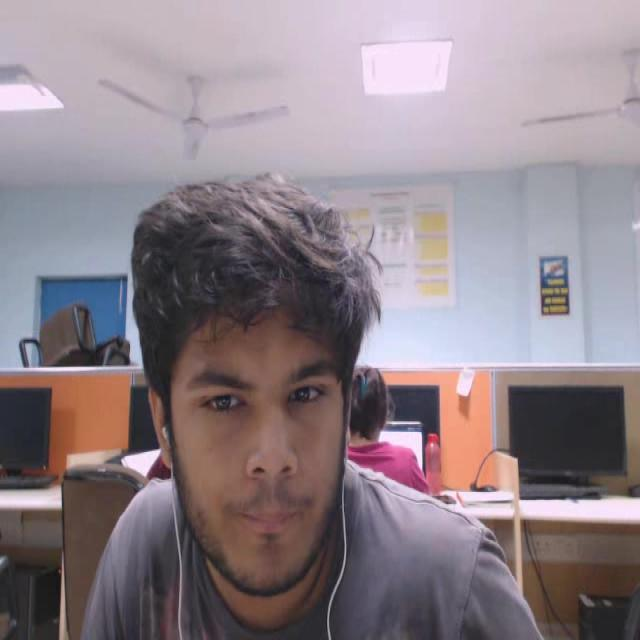Engaged: (98, 156, 420, 604)
